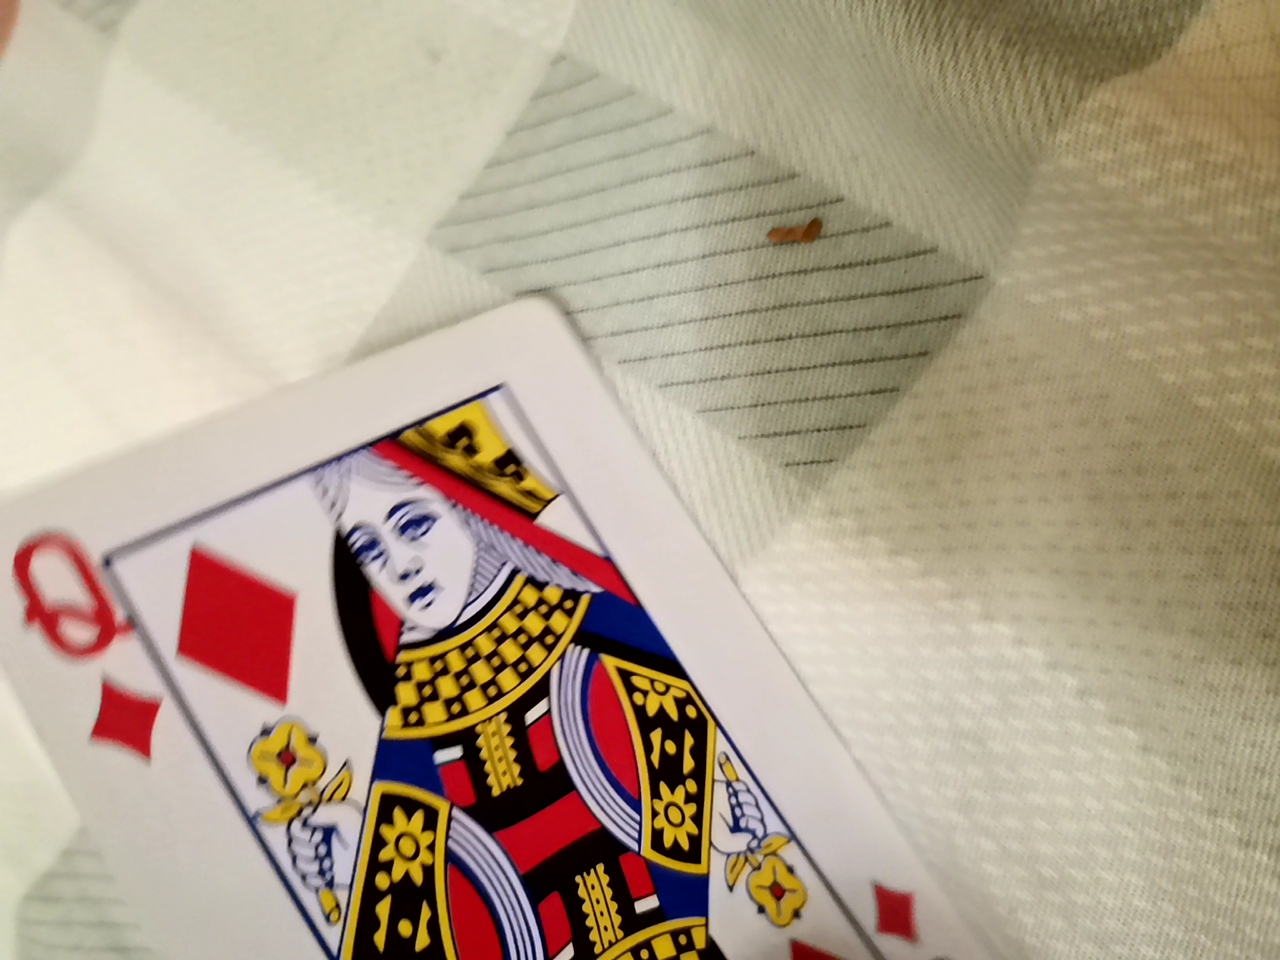fk q: (1, 286, 1032, 957)
